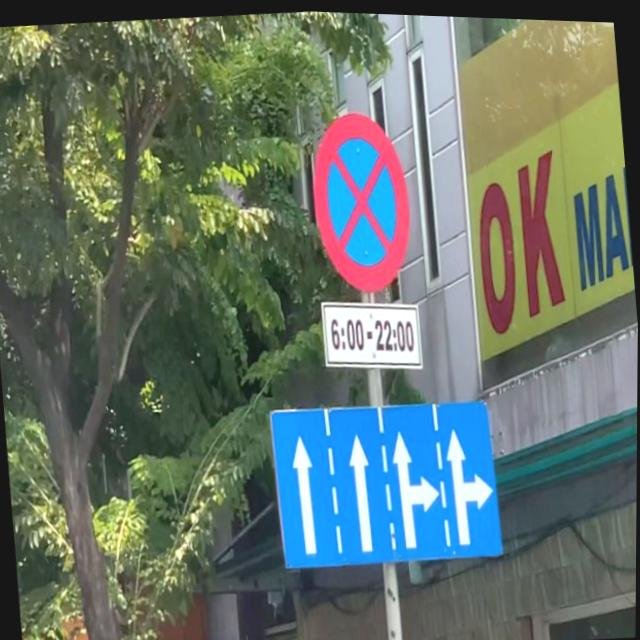Cam dung xe va do xe: (303, 100, 420, 301)
